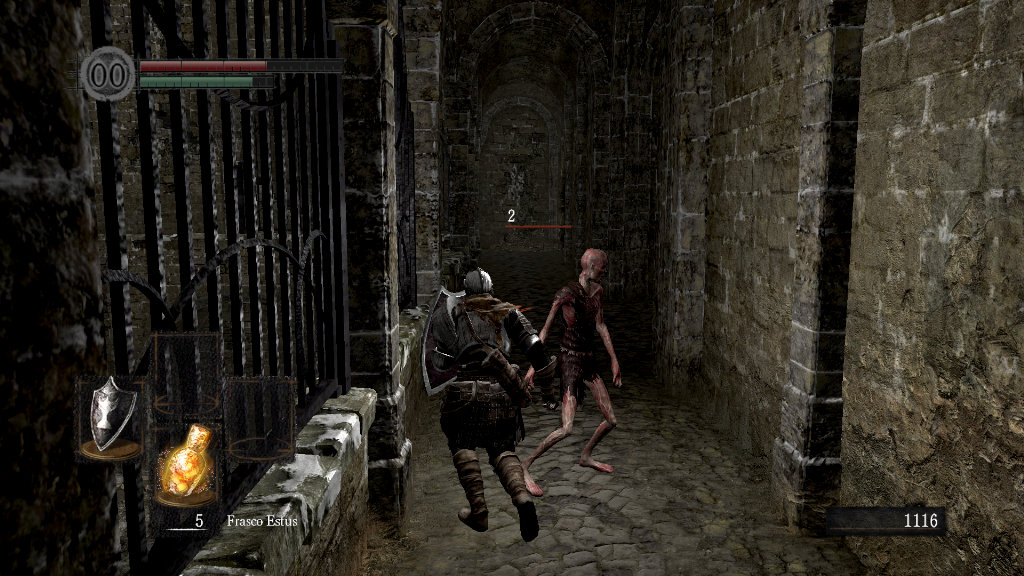health: (138, 58, 343, 71)
hollow: (521, 246, 626, 496)
humanity: (80, 45, 136, 102)
player: (421, 269, 542, 543)
souls: (825, 506, 945, 536)
stamina: (138, 74, 274, 88)
